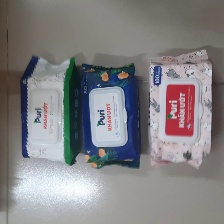Puri Trang: (20, 54, 83, 167)
Puri Xanh: (80, 60, 142, 172)
Puri hong: (147, 48, 214, 173)
